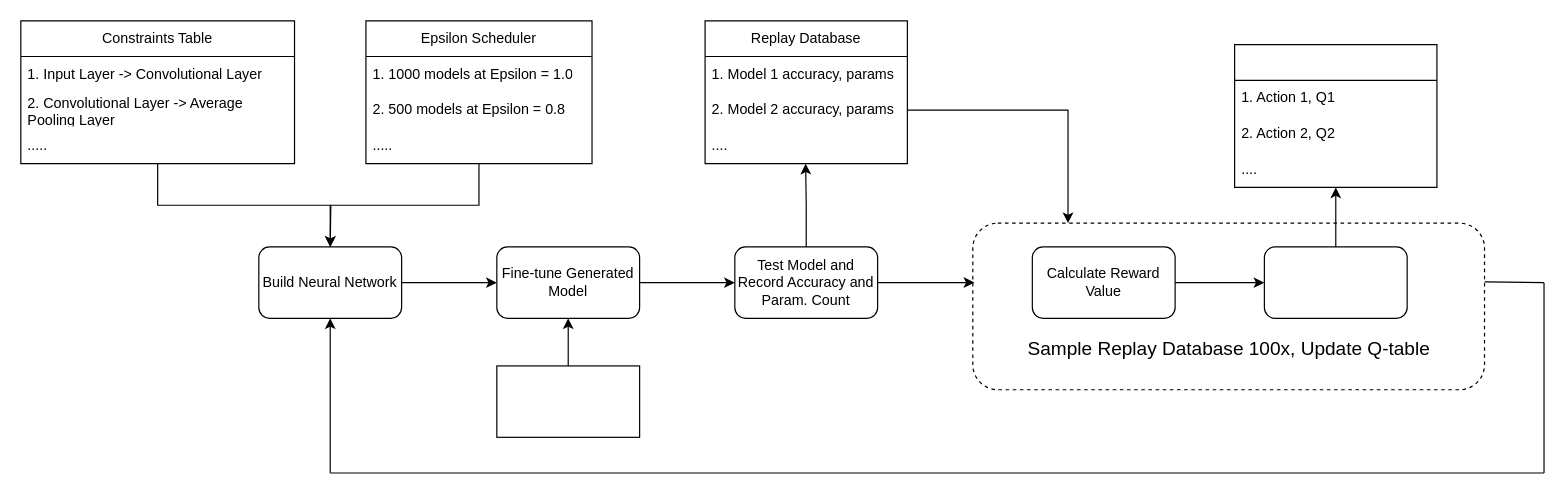
Image size: 1566x503. Some labels were removed from this diagram. The box of each missing label's shape, as (x1, y1, x2, y2) in pixels:
2021 RadioML Dataset: (496, 365, 640, 437)
Q-Table: (1233, 43, 1437, 187)
Update Q-table: (1263, 246, 1407, 318)
